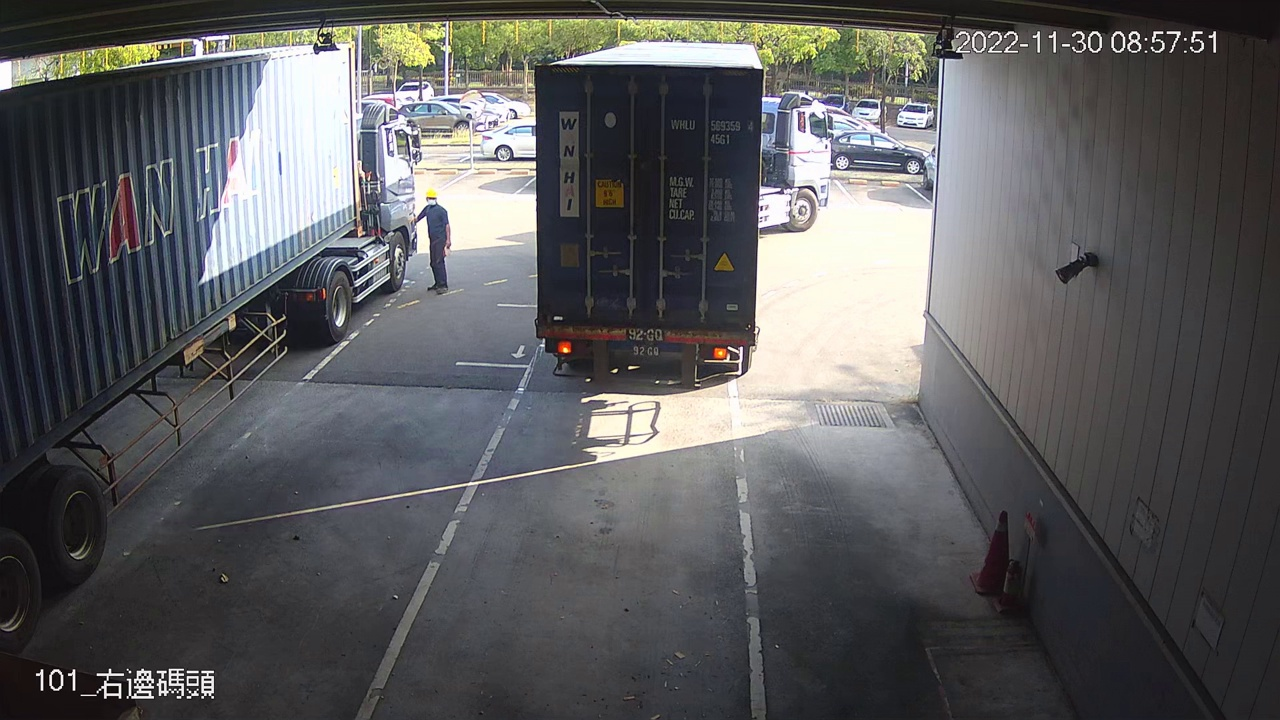container: (667, 111, 756, 149)
